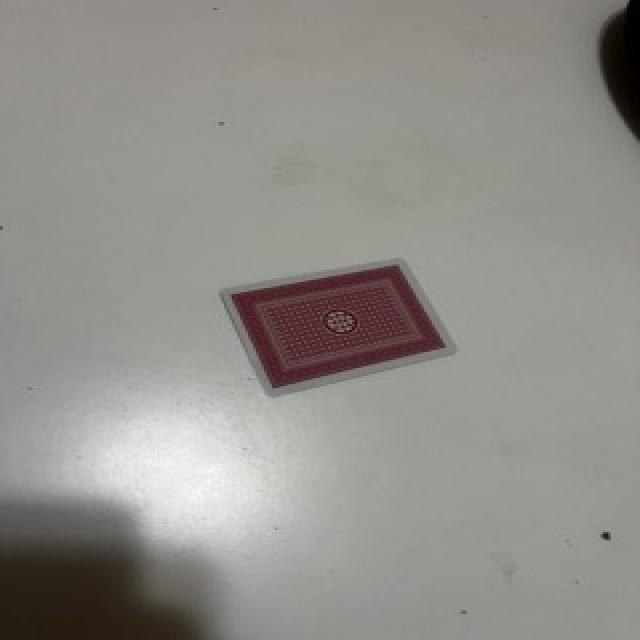card back: (223, 261, 452, 394)
